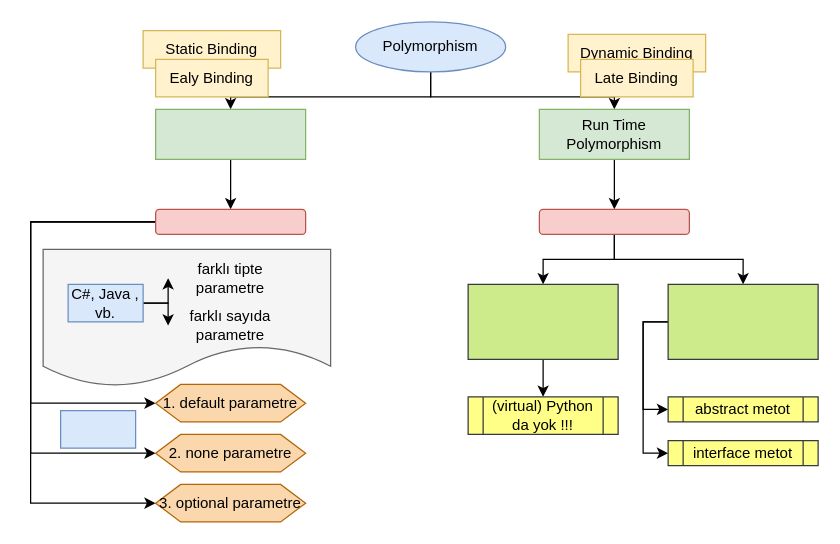
Image size: 840x544. Some labels were removed from this diagram. The centre of each missing label's shape, as x and y in pixels:
Compile Time Polymorphism: point (230, 133)
İsteğe bağlı Polymorphism: point (542, 321)
Overloading: point (230, 221)
Override: point (613, 221)
Python: point (97, 428)
Zorunlu Polymorphism: point (742, 321)
